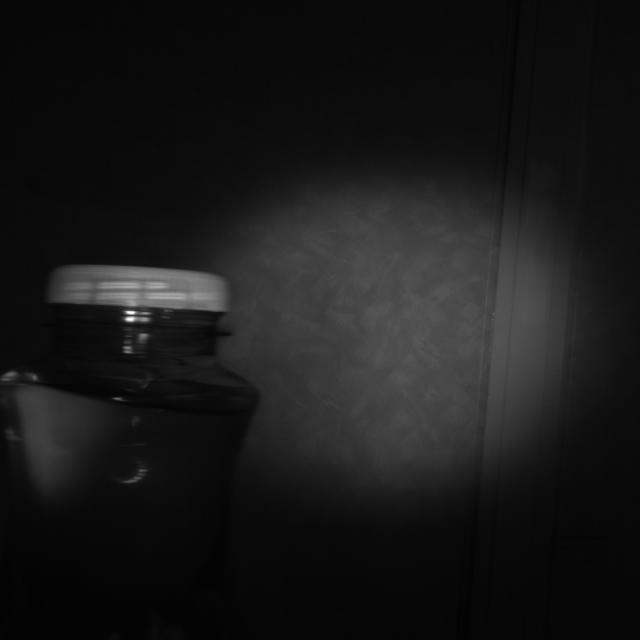Not Good: (43, 262, 230, 338)
